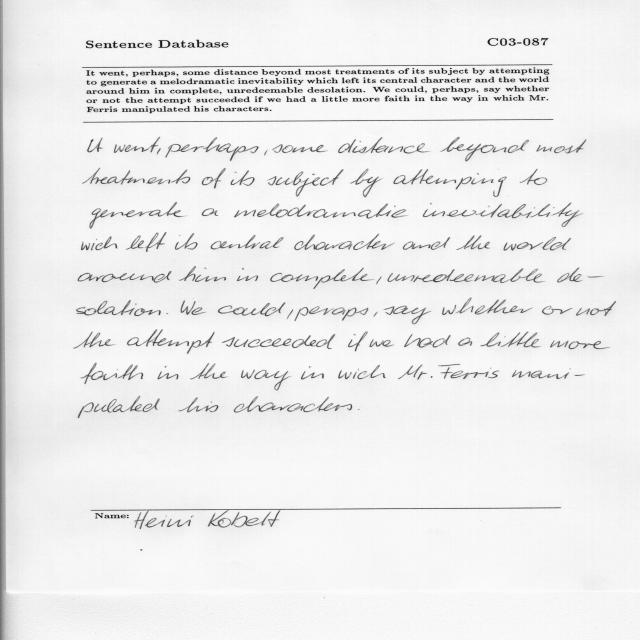word: (423, 203, 583, 227), (393, 169, 507, 197), (234, 204, 408, 219), (90, 203, 184, 228), (388, 268, 543, 283), (166, 137, 259, 161), (271, 268, 375, 289), (440, 138, 529, 162), (269, 169, 344, 197), (127, 330, 215, 353), (234, 396, 352, 413), (83, 168, 190, 185), (78, 396, 160, 417), (222, 334, 335, 349), (294, 234, 395, 250), (338, 137, 430, 154), (442, 298, 533, 315), (76, 300, 161, 316), (81, 363, 143, 384), (295, 306, 369, 321), (241, 370, 291, 391), (79, 271, 172, 282), (211, 235, 284, 249), (480, 332, 540, 348), (218, 302, 285, 316), (438, 364, 499, 379), (350, 169, 382, 197), (503, 237, 571, 250), (384, 306, 432, 324), (126, 232, 167, 252), (179, 266, 226, 282), (114, 137, 160, 153), (512, 369, 585, 379), (536, 140, 587, 154), (74, 332, 116, 349), (557, 268, 604, 283), (338, 365, 386, 379), (404, 334, 451, 348), (190, 363, 228, 380), (403, 237, 450, 250), (576, 301, 616, 316), (179, 397, 219, 412), (550, 341, 610, 350), (398, 365, 433, 380), (456, 235, 490, 250), (272, 144, 328, 153), (82, 237, 118, 251), (202, 168, 226, 188), (520, 169, 547, 185), (348, 332, 368, 352), (175, 233, 198, 250), (181, 300, 207, 315), (231, 170, 255, 186), (301, 367, 324, 380), (542, 306, 573, 315), (237, 268, 258, 281), (158, 366, 179, 379), (88, 138, 103, 153), (369, 339, 394, 347), (202, 208, 219, 216), (458, 338, 472, 346), (287, 310, 293, 319), (377, 277, 382, 285), (157, 148, 161, 154), (264, 150, 268, 155), (374, 312, 378, 317), (167, 313, 168, 314), (358, 409, 359, 410)
